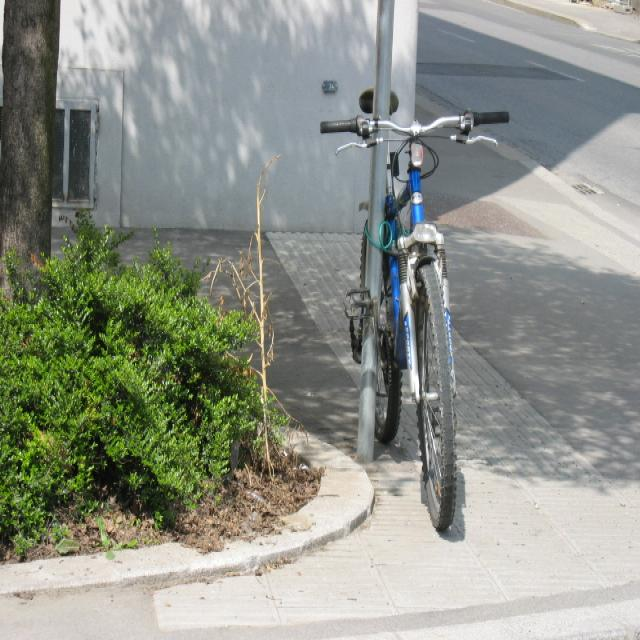bicycle: (319, 100, 509, 531)
